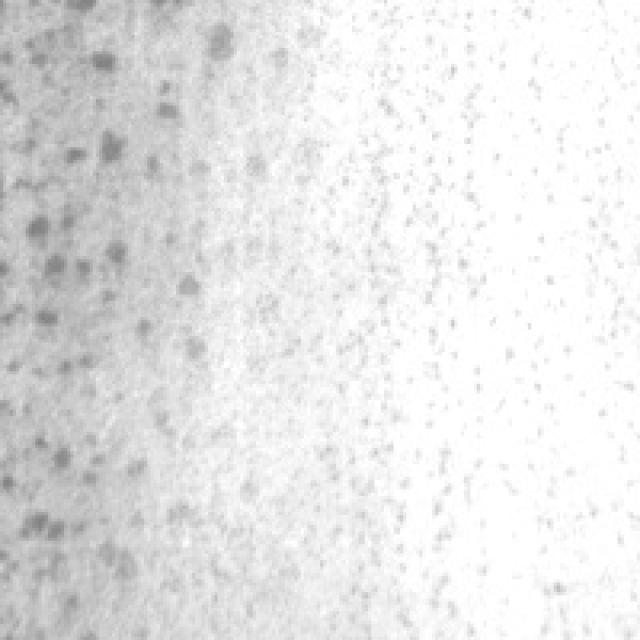pitted_surface: (250, 0, 508, 627), (0, 0, 227, 630)
